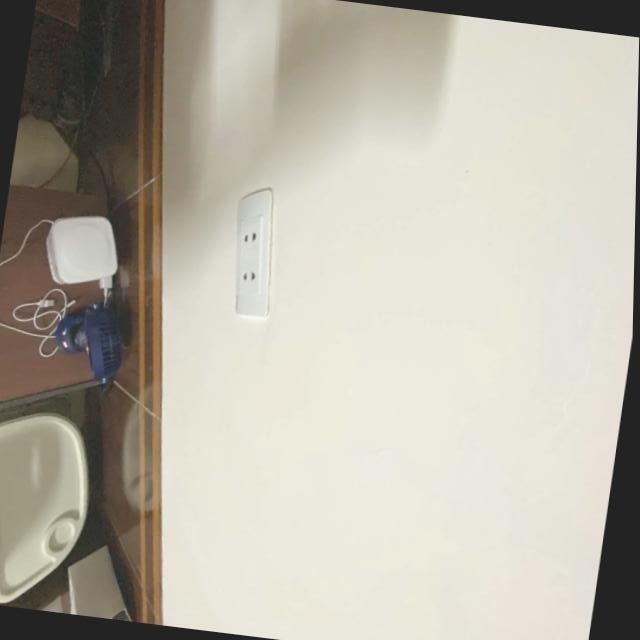outlet: (222, 184, 288, 319)
